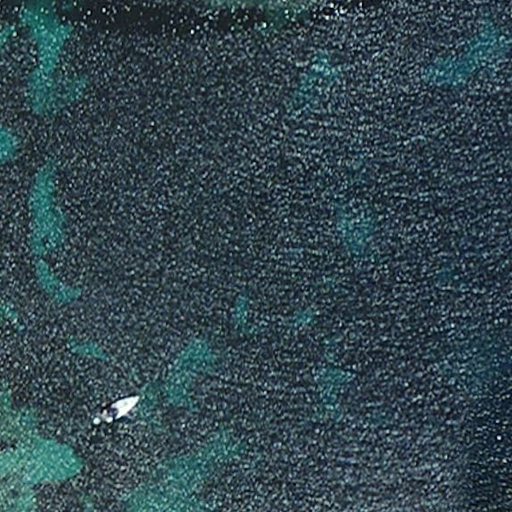ship: (90, 392, 143, 427)
